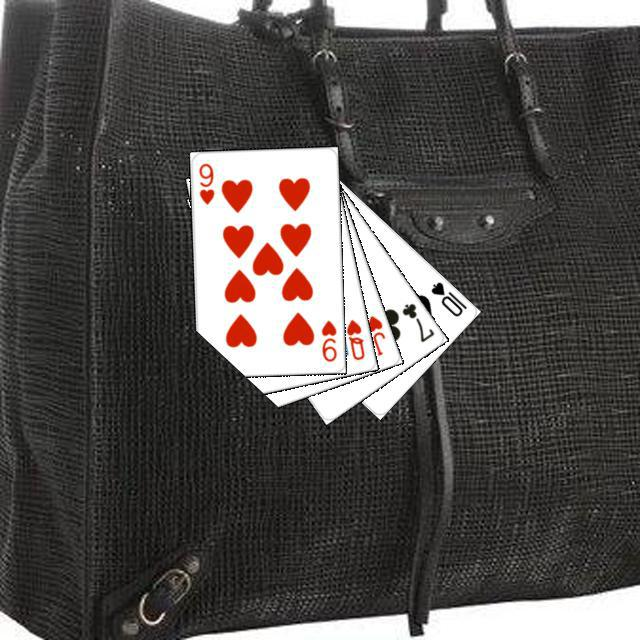10s: (426, 277, 469, 318)
7c: (397, 298, 436, 344)
9h: (316, 315, 338, 363), (194, 158, 216, 206)
Jh: (362, 310, 387, 357)
Qh: (341, 314, 366, 362)
